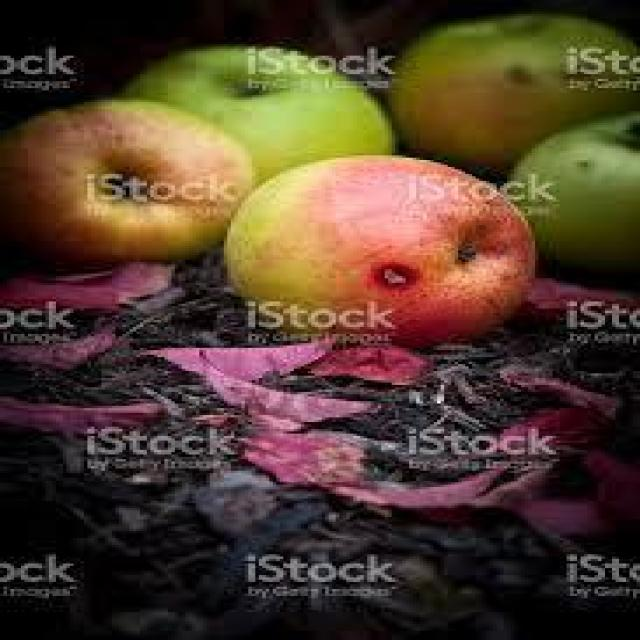maca: (220, 153, 535, 348), (0, 97, 255, 264), (384, 12, 636, 176), (119, 42, 395, 183), (504, 109, 636, 274)
